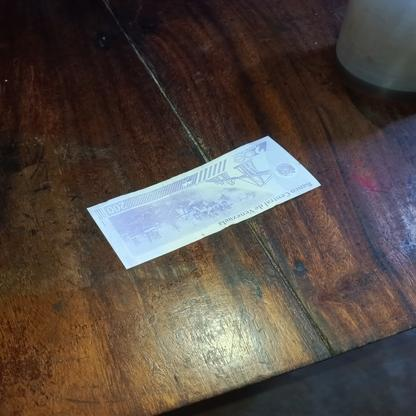two_hundred-back-vef: (86, 134, 322, 270)
